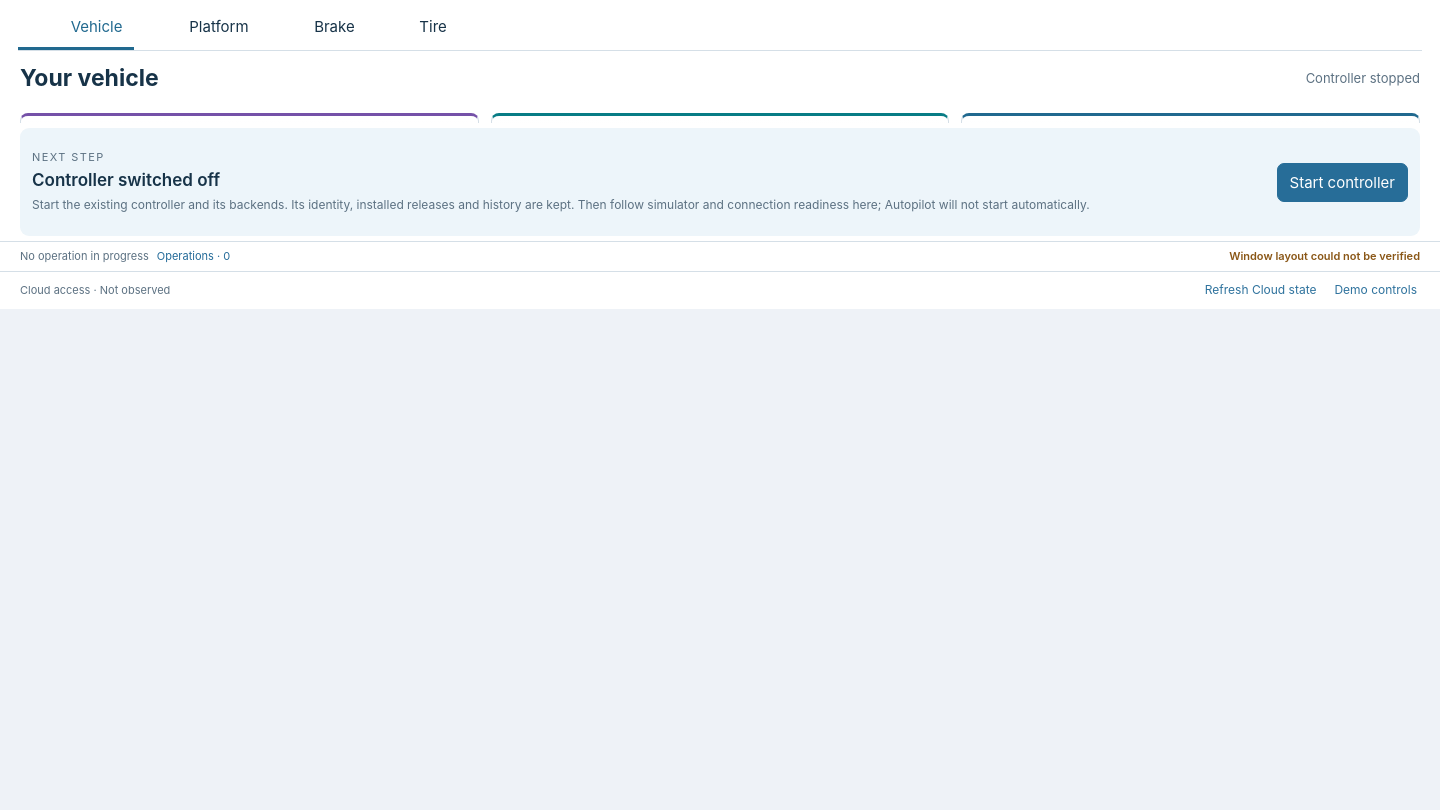
Scenario: overview reserves status, removes resource graphs and expands layout diagnostics only on demand
Expected: the element with class "studio-status-dock" is shown, [0, 241, 1439, 271]
What coordinates should you click on to do the following:
click the button with aria-label "Desktop window layout"
I would click on:
 (1325, 256)
Its box is [1229, 247, 1420, 266].
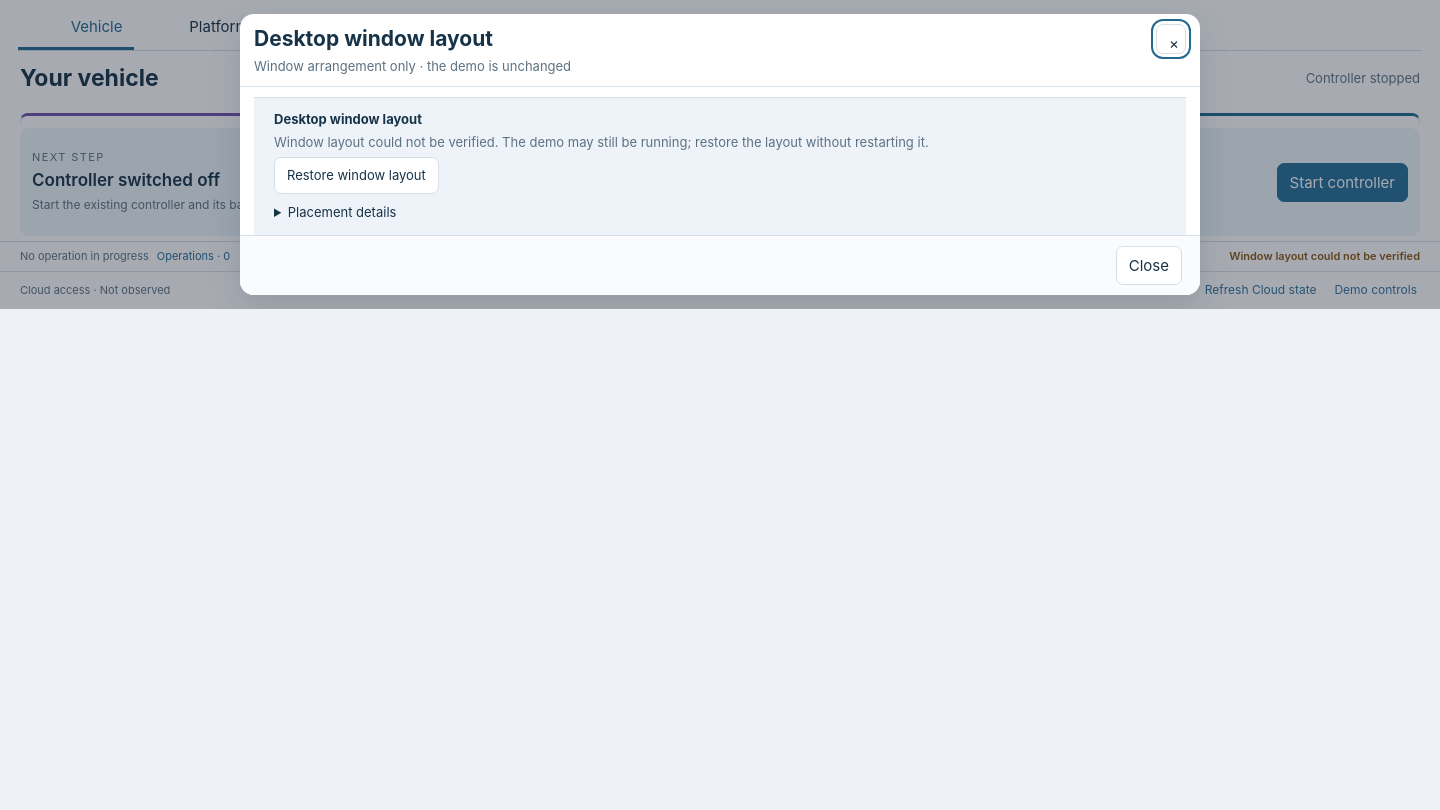
Result: the dialog shows "Window layout could not be verified" at [274, 134, 929, 150]
